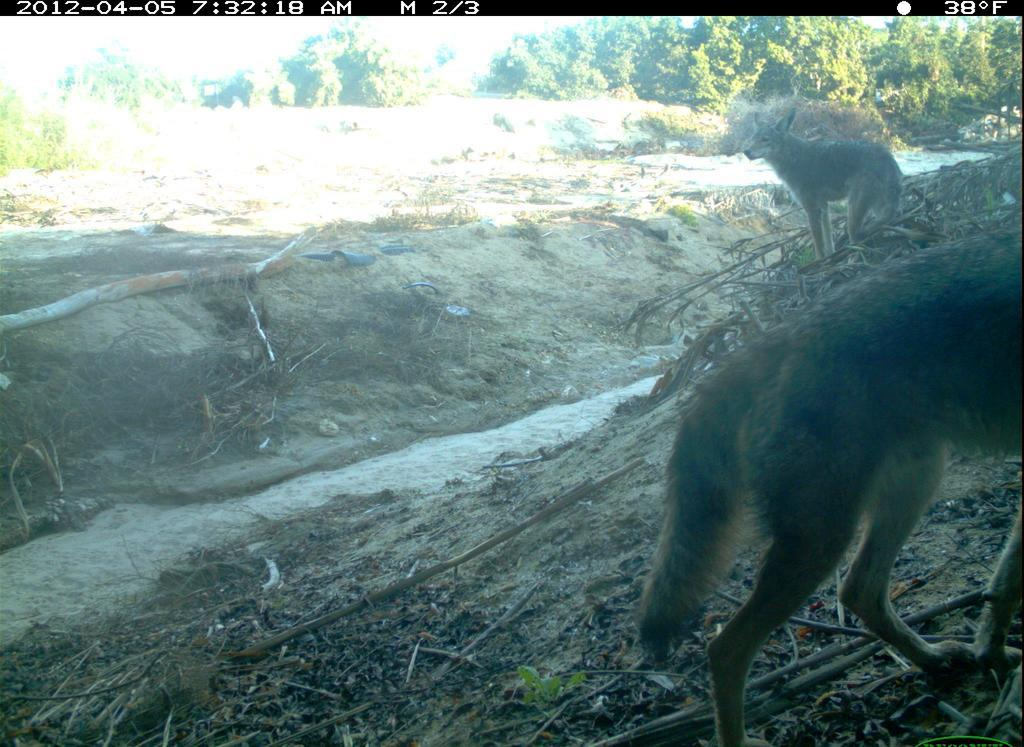coyote: (632, 225, 1022, 745), (728, 99, 926, 259)
